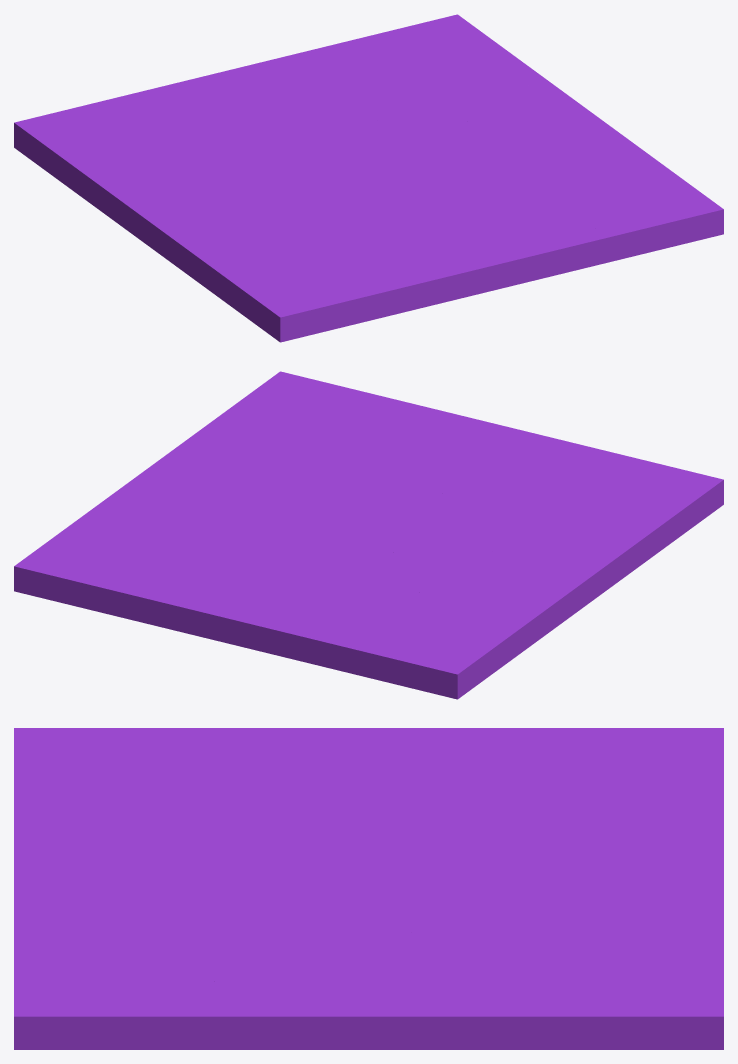
The model's file is Window_181_chunks.fbx.
The picture shows the model from 3 angles, top to bottom: view 1: azimuth 30°, elevation 25°; view 2: azimuth 150°, elevation 25°; view 3: azimuth 270°, elevation 25°; orthographic projection. The views are drawn at different scales.
Visible parts, largest first — view 1: Window_181_11, Window_181_5, Window_181_22, Window_181_6, Window_181_2, Window_181_23, Window_181_29, Window_181_31, Window_181_30, Window_181_27, Window_181_12, Window_181_21 (+24 smaller); view 2: Window_181_11, Window_181_5, Window_181_31, Window_181_6, Window_181_22, Window_181_2, Window_181_29, Window_181_23, Window_181_41, Window_181_32, Window_181_30, Window_181_27 (+26 smaller); view 3: Window_181_29, Window_181_11, Window_181_23, Window_181_22, Window_181_2, Window_181_5, Window_181_6, Window_181_36, Window_181_31, Window_181_30, Window_181_27, Window_181_12 (+26 smaller).
Boxes of the visible parts, left/top/right/bottom form: Window_181_11: left=227, top=246, right=456, bottom=342; Window_181_5: left=118, top=186, right=276, bottom=296; Window_181_22: left=462, top=191, right=596, bottom=277; Window_181_6: left=20, top=131, right=178, bottom=228; Window_181_2: left=372, top=136, right=496, bottom=239; Window_181_23: left=572, top=163, right=723, bottom=234; Window_181_29: left=400, top=14, right=548, bottom=86; Window_181_31: left=14, top=89, right=177, bottom=151; Window_181_30: left=367, top=71, right=537, bottom=110; Window_181_27: left=322, top=114, right=479, bottom=167; Window_181_12: left=292, top=207, right=424, bottom=249; Window_181_21: left=568, top=213, right=720, bottom=272; Window_181_11: left=530, top=436, right=723, bottom=539; Window_181_5: left=501, top=523, right=663, bottom=617; Window_181_31: left=320, top=618, right=468, bottom=699; Window_181_6: left=429, top=582, right=569, bottom=694; Window_181_22: left=334, top=402, right=530, bottom=468; Window_181_2: left=273, top=463, right=490, bottom=520; Window_181_29: left=14, top=499, right=159, bottom=603; Window_181_23: left=217, top=371, right=353, bottom=435; Window_181_41: left=36, top=559, right=207, bottom=611; Window_181_32: left=235, top=582, right=356, bottom=666; Window_181_30: left=121, top=501, right=251, bottom=565; Window_181_27: left=209, top=508, right=385, bottom=555; Window_181_29: left=474, top=950, right=723, bottom=1049; Window_181_11: left=14, top=728, right=182, bottom=845; Window_181_23: left=14, top=949, right=208, bottom=1049; Window_181_22: left=14, top=853, right=222, bottom=950; Window_181_2: left=126, top=852, right=405, bottom=929; Window_181_5: left=175, top=728, right=445, bottom=791; Window_181_6: left=440, top=728, right=692, bottom=786; Window_181_36: left=303, top=988, right=494, bottom=1049; Window_181_31: left=583, top=728, right=723, bottom=817; Window_181_30: left=440, top=910, right=605, bottom=1007; Window_181_27: left=362, top=852, right=486, bottom=960; Window_181_12: left=130, top=793, right=294, bottom=861.
Bounding box in the file's own units: 1129 × 60.81 × 1174.
